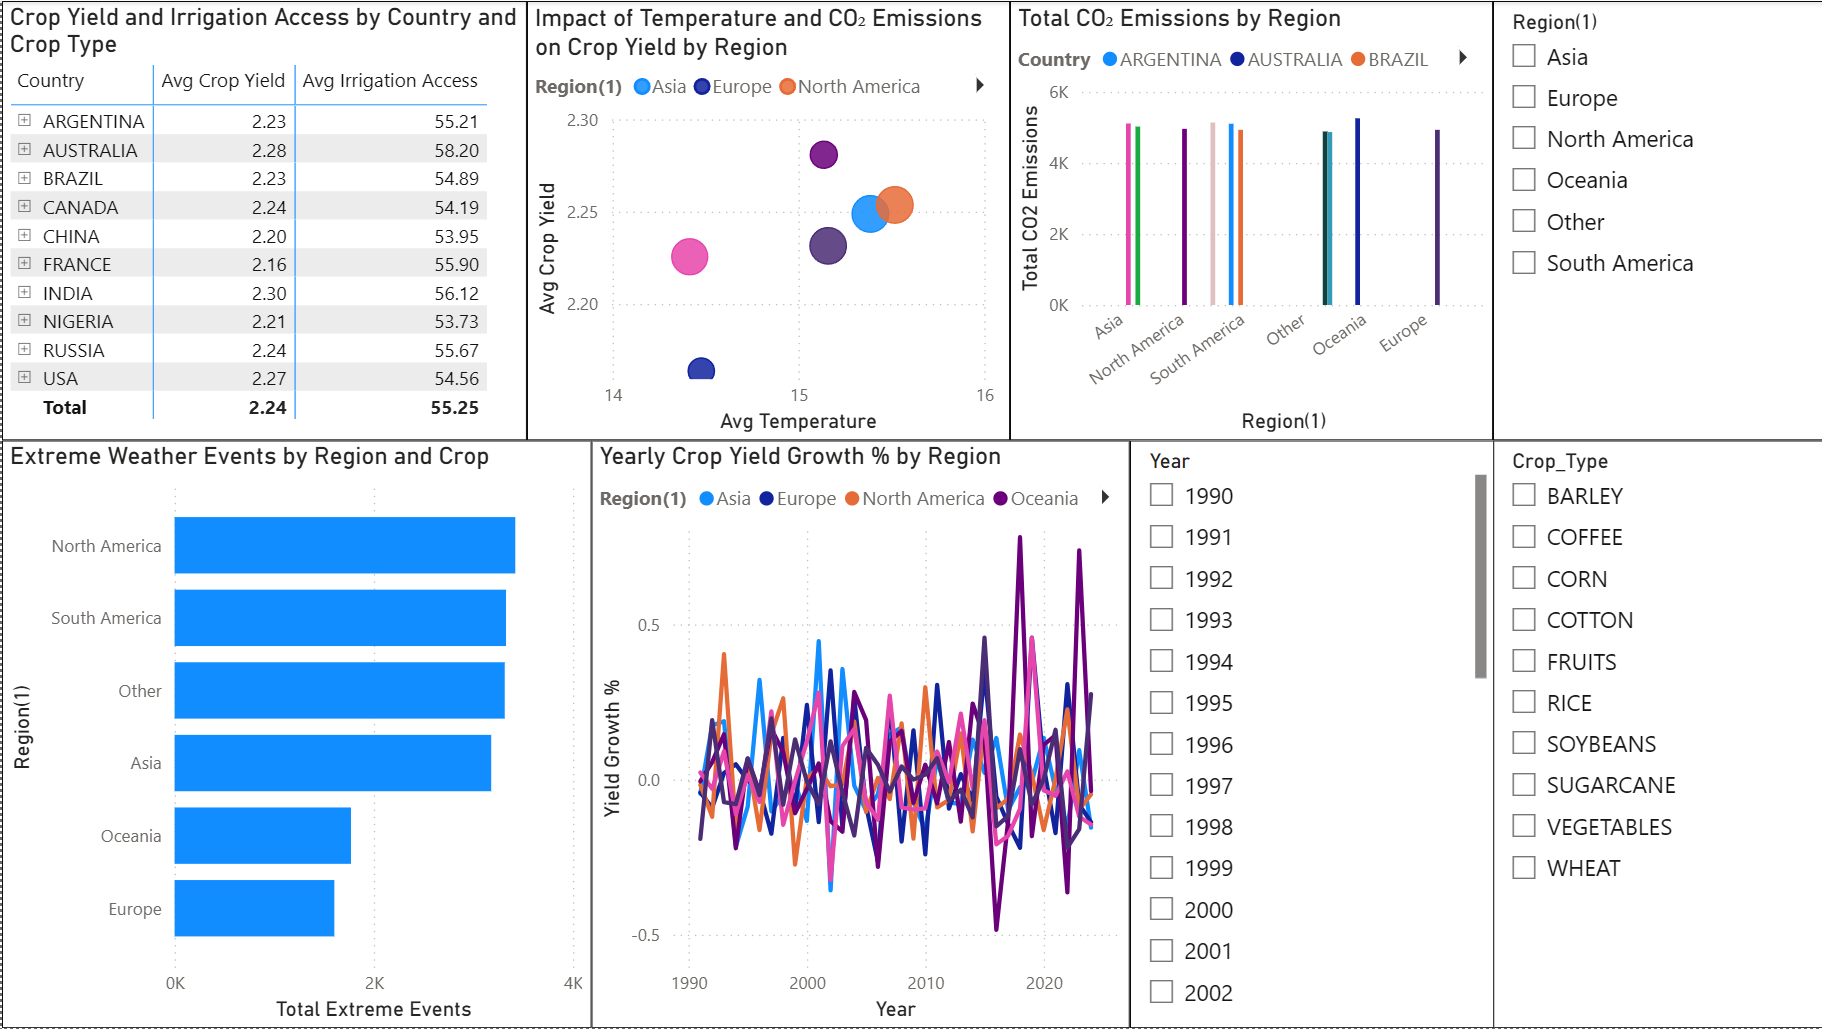

This screenshot's page, from the dashboard's own definition file:
{"tool":"powerbi","page":{"name":"Deep Dive Analysis","canvas":[1280,720],"ordinal":1},"visuals":[{"type":"pivotTable","title":"Crop Yield and Irrigation Access by Country and Crop Type","fields":{"Rows":["DimCountry.Country","DimCrop.Crop_Type"],"Values":["FactAgriculture.Avg Crop Yield","FactAgriculture.Avg Irrigation Access"]},"box":[0,0,368.1,308.1],"z":0},{"type":"scatterChart","title":"Impact of Temperature and CO₂ Emissions on Crop Yield by Region","fields":{"X":["FactAgriculture.Avg Temperature"],"Y":["FactAgriculture.Avg Crop Yield"],"Size":["FactAgriculture.Total CO2 Emissions"],"Series":["DimCountry.Region(1)"]},"box":[368.1,0,338.6,308.1],"z":1000},{"type":"clusteredColumnChart","title":"Total CO₂ Emissions by Region","fields":{"Category":["DimCountry.Region(1)"],"Y":["FactAgriculture.Total CO2 Emissions"],"Series":["DimCountry.Country"]},"box":[706.7,0,338.6,308.1],"z":2000},{"type":"barChart","title":"Extreme Weather Events by Region and Crop","fields":{"Y":["FactAgriculture.Total Extreme Events"],"Category":["DimCountry.Region(1)"]},"box":[0,308.1,413.3,412.2],"z":3000},{"type":"lineChart","title":"Yearly Crop Yield Growth % by Region","fields":{"Y":["FactAgriculture.Yield Growth %"],"Category":["DimDate.Year"],"Series":["DimCountry.Region(1)"]},"box":[413.3,308.1,377.5,412.2],"z":4000},{"type":"slicer","fields":{"Values":["DimCountry.Region(1)"]},"box":[1045.3,0,234.5,308.1],"z":5000},{"type":"slicer","fields":{"Values":["DimCrop.Crop_Type"]},"box":[1045.3,308.1,233.5,412.2],"z":6000},{"type":"slicer","fields":{"Values":["DimDate.Year"]},"box":[790.8,308.1,255.5,412.2],"z":7000}]}

Visuals, with their boxes in screenshot pixels (x1, y1, x2, y2), scaled from the page's 1280x720 canvas onto the 1822x1029 screenshot:
"Crop Yield and Irrigation Access by Country and Crop Type" pivotTable: {"left": 0, "top": 0, "right": 524, "bottom": 440}
"Impact of Temperature and CO₂ Emissions on Crop Yield by Region" scatterChart: {"left": 524, "top": 0, "right": 1006, "bottom": 440}
"Total CO₂ Emissions by Region" clusteredColumnChart: {"left": 1006, "top": 0, "right": 1488, "bottom": 440}
"Extreme Weather Events by Region and Crop" barChart: {"left": 0, "top": 440, "right": 588, "bottom": 1028}
"Yearly Crop Yield Growth % by Region" lineChart: {"left": 588, "top": 440, "right": 1126, "bottom": 1028}
slicer - DimCountry.Region(1): {"left": 1488, "top": 0, "right": 1821, "bottom": 440}
slicer - DimCrop.Crop_Type: {"left": 1488, "top": 440, "right": 1820, "bottom": 1028}
slicer - DimDate.Year: {"left": 1126, "top": 440, "right": 1489, "bottom": 1028}
